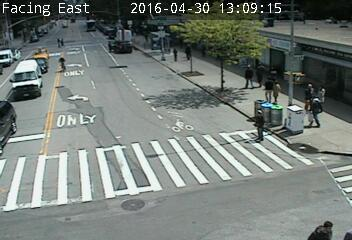neg: (109, 177, 148, 230), (29, 115, 67, 166), (252, 165, 282, 205), (91, 107, 121, 146), (82, 47, 110, 85), (9, 39, 35, 74), (40, 183, 66, 217), (203, 63, 229, 97), (313, 162, 338, 195), (196, 155, 219, 185), (160, 101, 182, 130), (113, 34, 135, 63), (155, 167, 172, 190), (69, 91, 83, 110)
pos: (247, 108, 272, 142), (304, 93, 329, 127), (238, 56, 260, 86), (261, 76, 278, 99), (300, 79, 317, 102), (183, 43, 198, 63), (53, 53, 68, 72), (317, 85, 331, 105), (166, 45, 179, 62)
